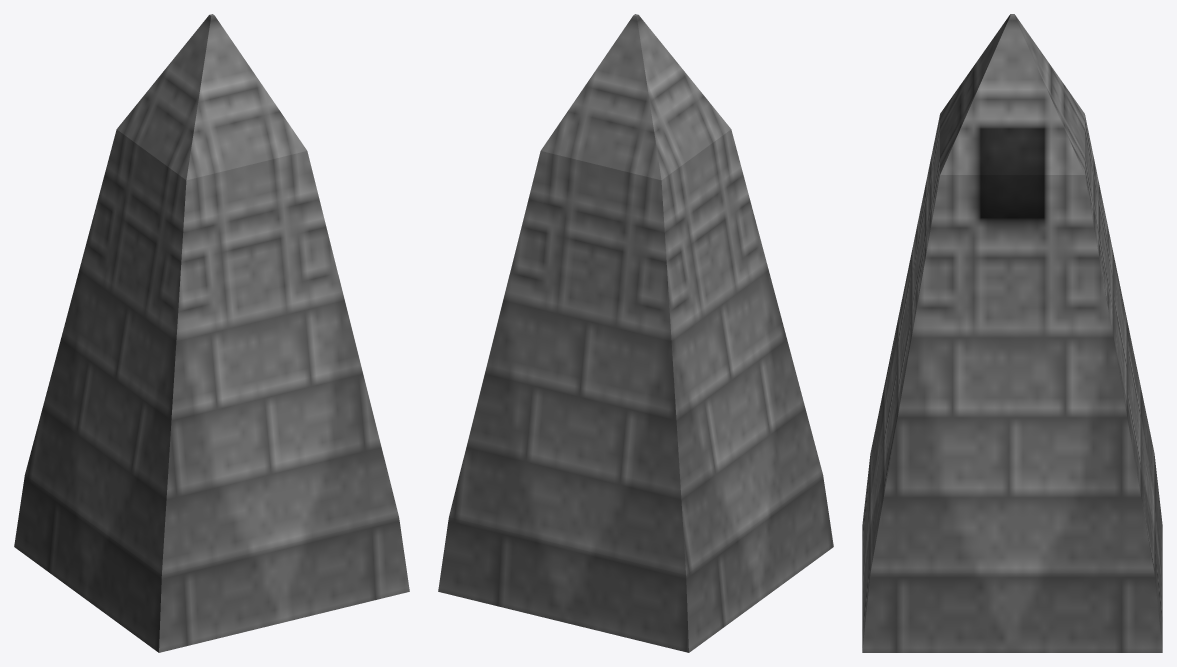
Rendered from obelisk.obj.
The picture shows the model from 3 angles, left to right: view 1: azimuth 30°, elevation 25°; view 2: azimuth 150°, elevation 25°; view 3: azimuth 270°, elevation 25°; orthographic projection. The views are drawn at different scales.
Parts seen in each view (by area): view 1: Cube; view 2: Cube; view 3: Cube.
Boxes of the visible parts, x1=… form: Cube: x1=14, y1=14, x2=409, y2=652; Cube: x1=438, y1=14, x2=833, y2=652; Cube: x1=862, y1=14, x2=1162, y2=652.
Bounding box in the file's own units: 1 × 2.11 × 1.
